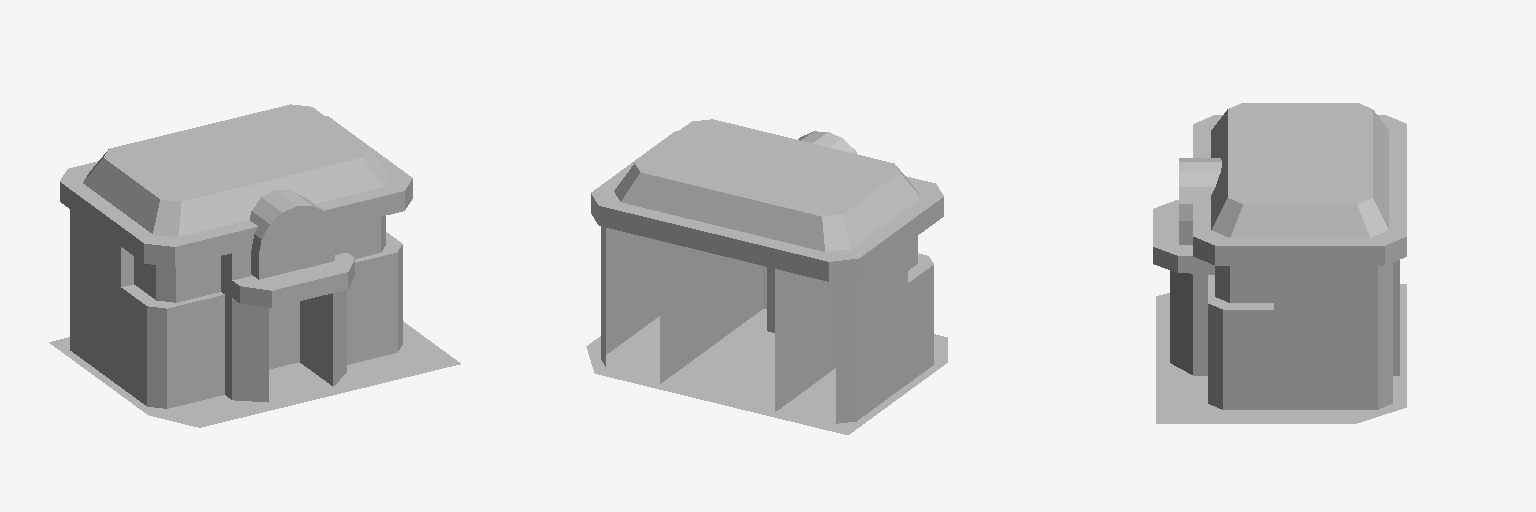
File: pokecenter.obj
The picture shows the model from 3 angles: view 1: azimuth 30°, elevation 25°; view 2: azimuth 150°, elevation 25°; view 3: azimuth 270°, elevation 25°; orthographic projection.
Parts seen in each view (by area): view 1: polygon3, polygon1, polygon0, polygon2; view 2: polygon3, polygon1; view 3: polygon3, polygon1, polygon0.
Part boxes in pixels (left/top/right/bottom): polygon3: left=60, top=104, right=412, bottom=408; polygon1: left=49, top=321, right=460, bottom=427; polygon0: left=134, top=216, right=385, bottom=302; polygon2: left=266, top=216, right=327, bottom=277; polygon3: left=591, top=119, right=943, bottom=423; polygon1: left=586, top=309, right=947, bottom=434; polygon3: left=1153, top=103, right=1406, bottom=409; polygon1: left=1156, top=284, right=1406, bottom=423; polygon0: left=1215, top=266, right=1273, bottom=302.
Bounding box in the file's own units: 90 × 58.5 × 68.99.